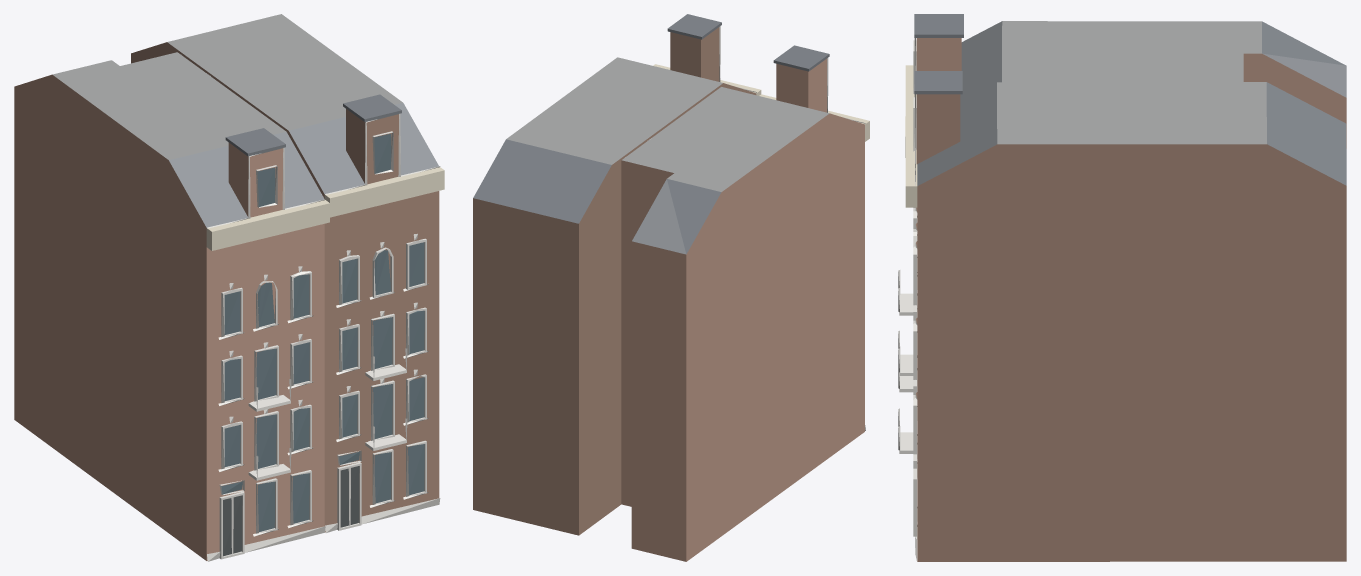
File: chunk-face-helmers-209-253-r2.lod2.glb
The picture shows the model from 3 angles, left to right: view 1: azimuth 30°, elevation 25°; view 2: azimuth 150°, elevation 25°; view 3: azimuth 270°, elevation 25°; orthographic projection. The views are drawn at different scales.
Parts seen in each view (by area): view 1: lod2; view 2: lod2; view 3: lod2.
Part boxes in pixels (left/top/right/bottom): lod2: left=14, top=14, right=444, bottom=561; lod2: left=473, top=14, right=869, bottom=561; lod2: left=898, top=14, right=1346, bottom=561.
Size of the model in its own units: 10.14 by 16.86 by 15.23.
